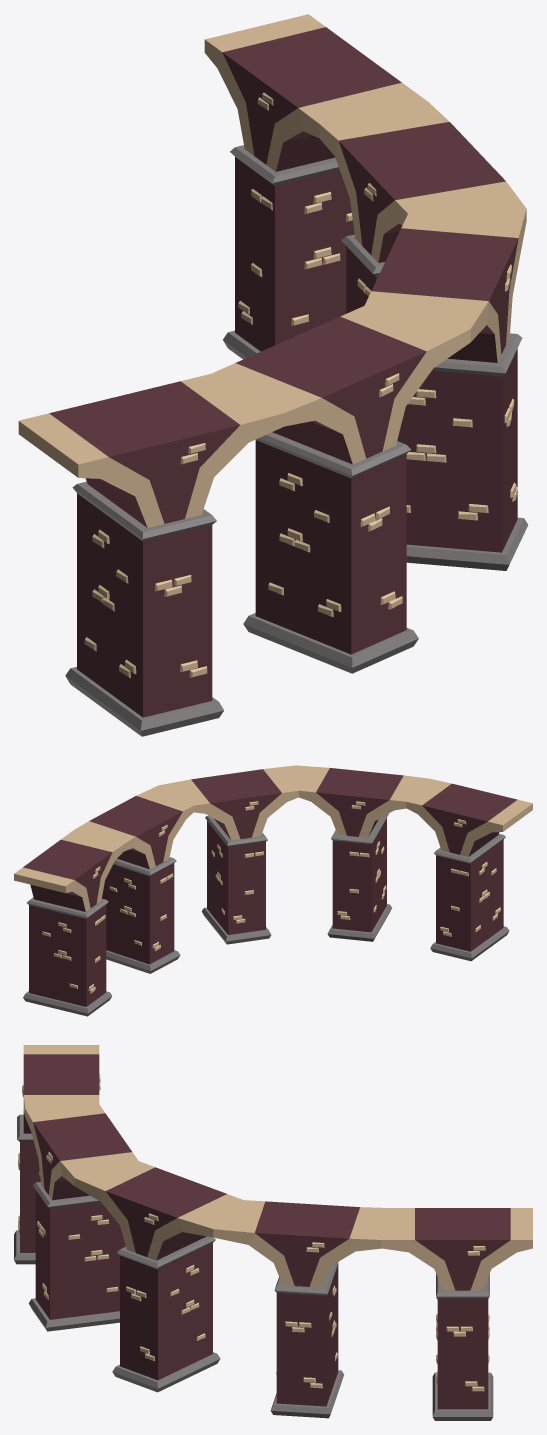
File: SM_Aqueduct_Curve_Empire.fbx
3 renders of one model, top to bottom at view 1: azimuth 30°, elevation 25°; view 2: azimuth 150°, elevation 25°; view 3: azimuth 270°, elevation 25°, orthographic. The views are drawn at different scales.
Visible parts, largest first — view 1: SM_Aqueduct_Curve_Empire; view 2: SM_Aqueduct_Curve_Empire; view 3: SM_Aqueduct_Curve_Empire.
Part boxes in pixels (<box>): SM_Aqueduct_Curve_Empire: <box>18,14,527,736</box>; SM_Aqueduct_Curve_Empire: <box>14,765,532,1016</box>; SM_Aqueduct_Curve_Empire: <box>14,1045,532,1420</box>.
Size of the model in its own units: 16.82 by 7 by 18.52.
